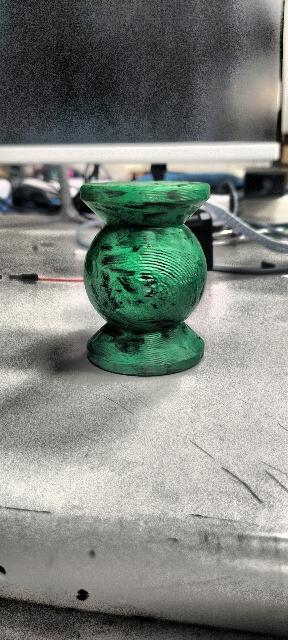green: (79, 180, 211, 376)
